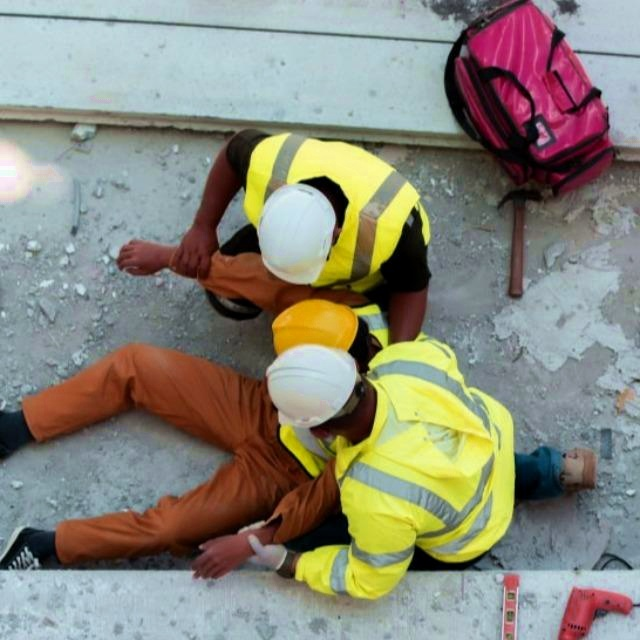Con_Casco: (264, 346, 368, 431), (258, 183, 338, 287)
Con_Chaleco: (366, 350, 516, 554)
